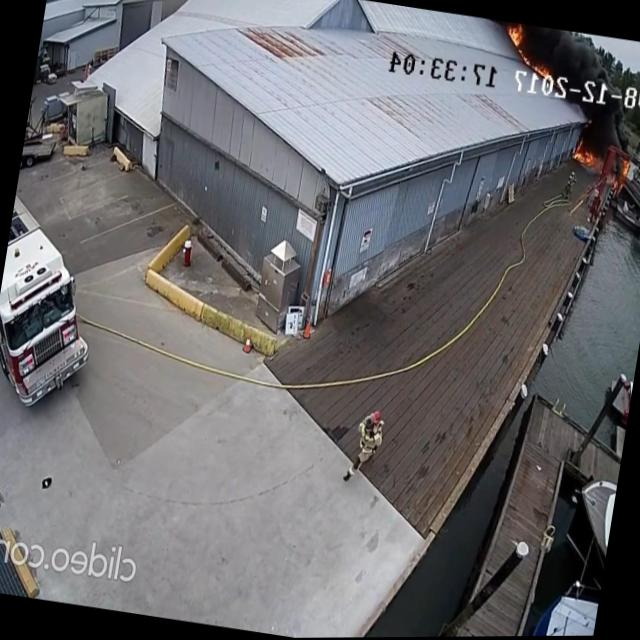fire: (499, 23, 557, 80), (604, 155, 634, 201), (568, 137, 602, 170)
